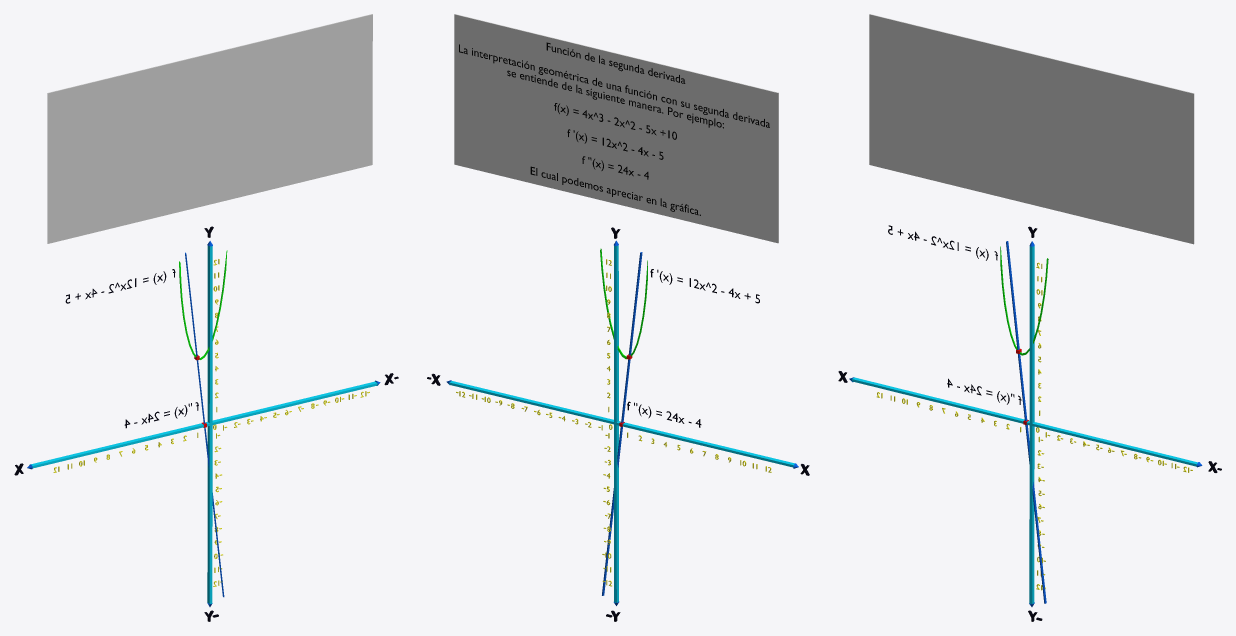
File: f-segunda-derivada.fbx
The picture shows the model from 3 angles, left to right: view 1: azimuth 30°, elevation 25°; view 2: azimuth 150°, elevation 25°; view 3: azimuth 330°, elevation 25°; orthographic projection.
Visible parts, largest first — view 1: Cubo.001, Cubo.005, Cubo.006, Cube.002; view 2: Cubo.001, Text.001, Cubo.006, Cubo.005, Cube.002; view 3: Cubo.001, Cubo.005, Cubo.006, Cube.002.
Boxes of the visible parts, x1,y1,x2,y2 form: Cubo.001: [47, 14, 372, 243]; Cubo.005: [207, 246, 212, 603]; Cubo.006: [29, 381, 377, 468]; Cube.002: [185, 252, 224, 597]; Cubo.001: [454, 14, 778, 243]; Text.001: [459, 42, 769, 215]; Cubo.006: [449, 381, 794, 467]; Cubo.005: [614, 245, 618, 602]; Cube.002: [602, 252, 642, 595]; Cubo.001: [869, 14, 1194, 244]; Cubo.005: [1029, 246, 1034, 603]; Cubo.006: [852, 377, 1197, 466]; Cube.002: [1006, 241, 1046, 603].
Size of the model in its own units: 599 by 850 by 8.65.
